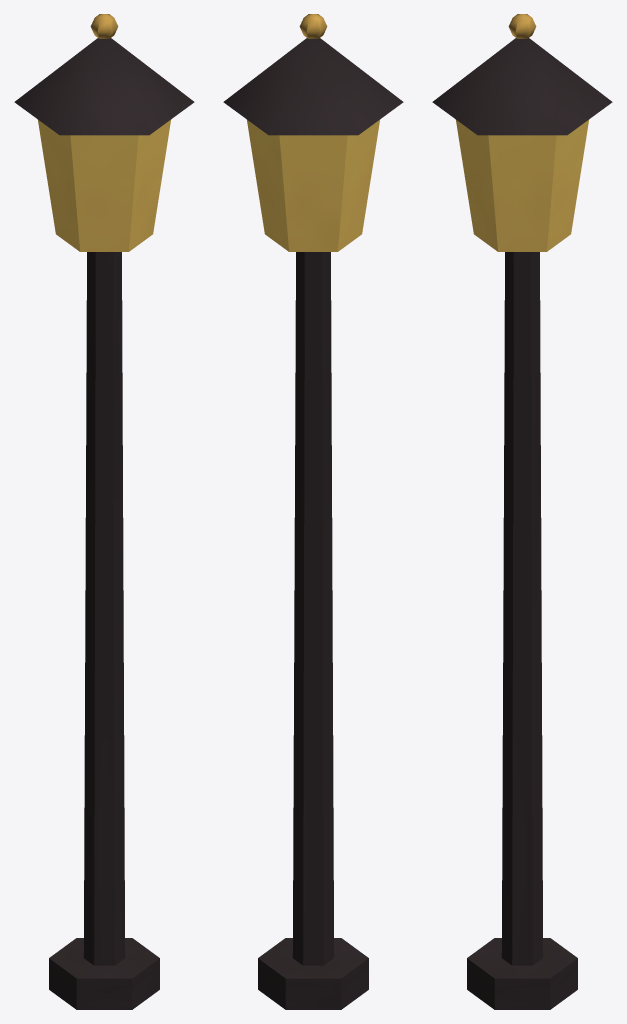
Rendered from env_baku_lantern.glb.
The picture shows the model from 3 angles, left to right: view 1: azimuth 30°, elevation 25°; view 2: azimuth 150°, elevation 25°; view 3: azimuth 270°, elevation 25°; orthographic projection.
Parts seen in each view (by area): view 1: env_baku_lantern; view 2: env_baku_lantern; view 3: env_baku_lantern.
Boxes of the visible parts, box(x1,y1,x2,y2) form: env_baku_lantern: box(14, 14, 194, 1009); env_baku_lantern: box(223, 14, 403, 1009); env_baku_lantern: box(432, 14, 612, 1009).
Size of the model in its own units: 0.4503 by 3.1 by 0.52.
1 material, 1 textured.
